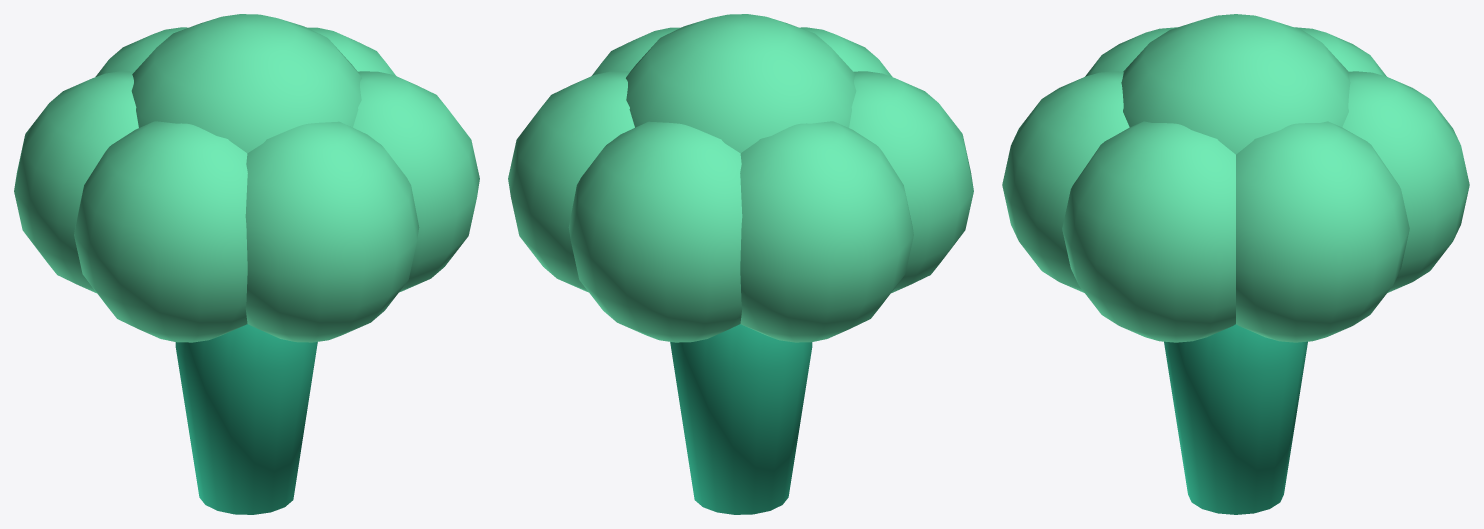
Rendered from broccoli.glb.
The picture shows the model from 3 angles, left to right: view 1: azimuth 30°, elevation 25°; view 2: azimuth 150°, elevation 25°; view 3: azimuth 270°, elevation 25°; orthographic projection.
Parts seen in each view (by area): view 1: broccoli; view 2: broccoli; view 3: broccoli.
Boxes of the visible parts, box(x1,y1,x2,y2) form: broccoli: box(14, 14, 479, 514); broccoli: box(508, 14, 973, 514); broccoli: box(1002, 14, 1469, 514).
Bounding box in the file's own units: 0.8447 × 1 × 0.907.
1 material, 1 textured.
